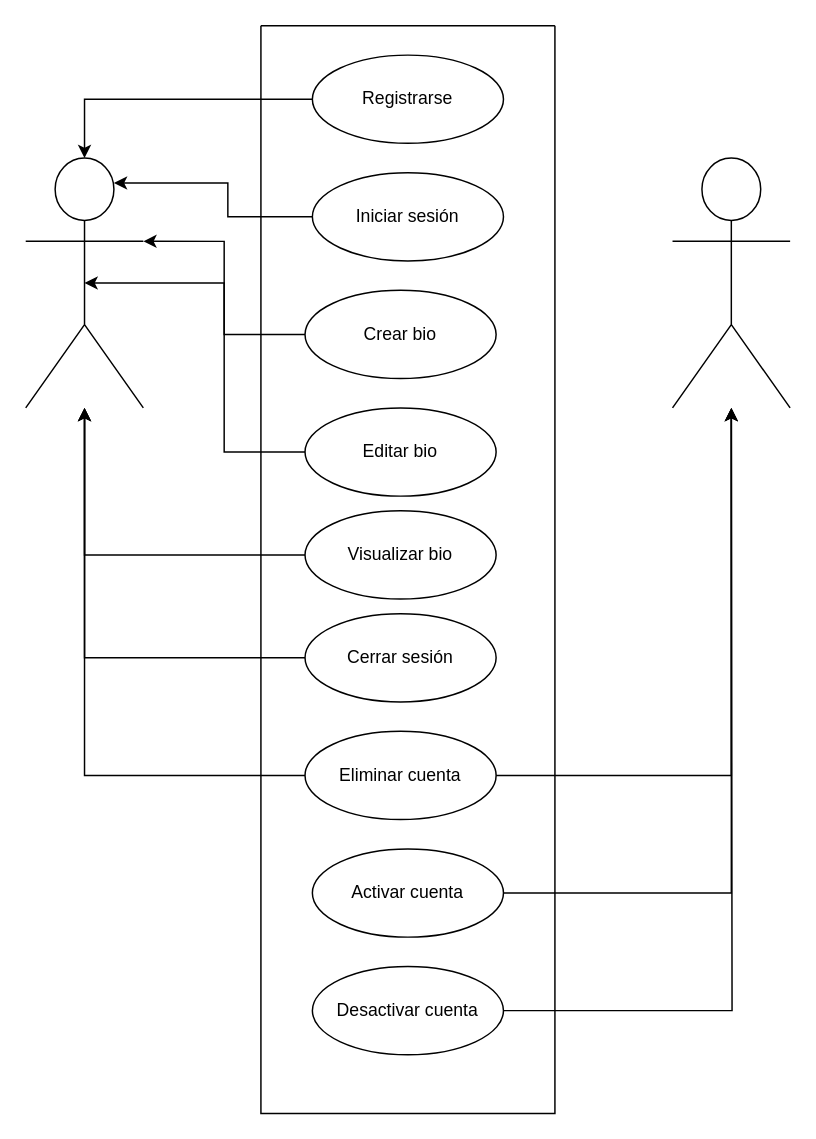
The diagram is 816 pixels wide and 1139 high, and some of its shapes have lost their labels. Each missing label, with the box of its shape:
Artista: (24, 157, 143, 408)
Moderador: (671, 157, 790, 408)
